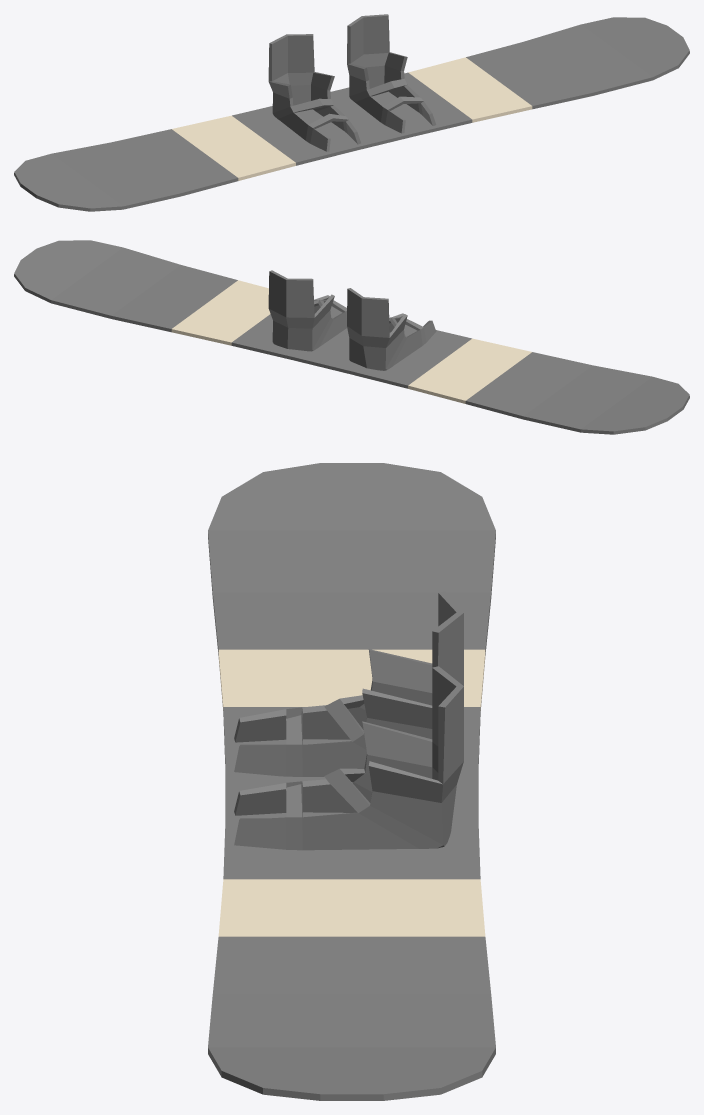
File: Snowboarder_2_Board.fbx
3 renders of one model, top to bottom at view 1: azimuth 30°, elevation 25°; view 2: azimuth 150°, elevation 25°; view 3: azimuth 270°, elevation 25°, orthographic. The views are drawn at different scales.
Parts seen in each view (by area): view 1: Snowboarder_2_Board; view 2: Snowboarder_2_Board; view 3: Snowboarder_2_Board.
Boxes of the visible parts, box(x1,y1,x2,y2) form: Snowboarder_2_Board: box(14, 14, 689, 211); Snowboarder_2_Board: box(14, 240, 689, 434); Snowboarder_2_Board: box(208, 463, 495, 1100).
Bounding box in the file's own units: 200 × 22.17 × 38.55.
